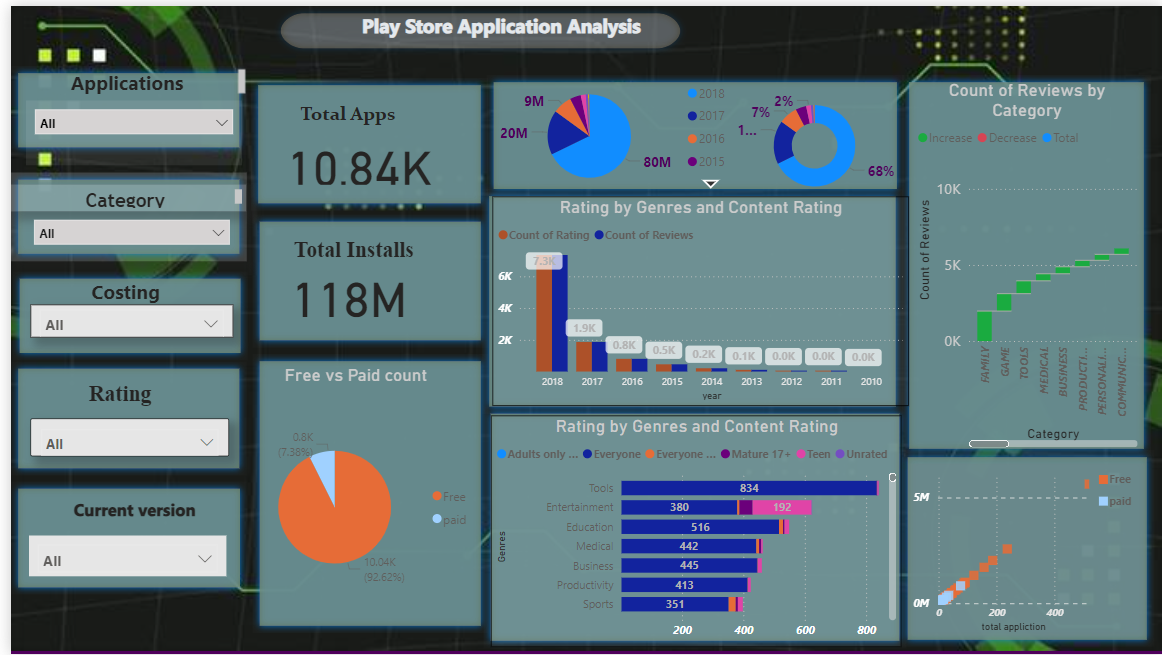

The page's visual inventory and layout, read from the dashboard file:
{"tool":"powerbi","page":{"name":"Page 1","canvas":[1280,720],"ordinal":0},"visuals":[{"type":"shape","box":[523.3,203.6,467.6,249.7],"z":0},{"type":"shape","box":[528,77.3,464,134.7],"z":1000},{"type":"shape","box":[988.3,492.8,281.7,218.9],"z":2000},{"type":"shape","box":[990,76.7,276.7,423.3],"z":3000},{"type":"shape","box":[0,185,261.7,98.3],"z":4000},{"type":"textbox","box":[0,198.1,261.4,30],"z":5000},{"type":"shape","box":[268.3,386.7,261.7,310],"z":6000},{"type":"shape","box":[266.7,80,263.3,147.2],"z":7000},{"type":"shape","box":[2.4,295.7,261.4,98.6],"z":8000},{"type":"shape","box":[0,66.7,261.7,98.3],"z":9000},{"type":"slicer","fields":{"Values":["google_cleaned (2).Category"]},"box":[1.7,218.3,263.3,96.1],"z":10000},{"type":"slicer","fields":{"Values":["google_cleaned (2).App"]},"box":[17.2,105.6,240,71.7],"z":11000},{"type":"textbox","box":[1.7,65.6,263.3,37.8],"z":12000},{"type":"shape","box":[525,445,470,268.3],"z":13000},{"type":"card","fields":{"Values":["google_cleaned (2).total appliction"]},"box":[300.6,143.9,173.3,60],"z":14000},{"type":"textbox","box":[276.7,101.1,225,47.2],"z":15000},{"type":"shape","box":[0,395,261.7,126.7],"z":16000},{"type":"slicer","fields":{"Values":["google_cleaned (2).Free_OR_Paid"]},"box":[21.7,331.1,225,36.7],"z":17000},{"type":"textbox","box":[0,296.1,255,46.7],"z":18000},{"type":"slicer","fields":{"Values":["google_cleaned (2).Rating"]},"box":[21.1,458.3,220.6,42.2],"z":19000},{"type":"textbox","box":[1.7,411.7,238.9,46.7],"z":20000},{"type":"shape","box":[268.3,232.2,261.7,147.8],"z":21000},{"type":"card","fields":{"Values":["Sum(google_cleaned (2).No_of_install)"]},"box":[288.9,282.2,173.3,75],"z":22000},{"type":"textbox","box":[253.3,252.2,255,49.4],"z":23000},{"type":"pieChart","title":"Free vs Paid count ","fields":{"Category":["google_cleaned (2).Free_OR_Paid"],"Y":["CountNonNull(google_cleaned (2).Category)"]},"box":[246.7,398.9,273.3,294.4],"z":24000},{"type":"barChart","title":" Rating by Genres and Content Rating","fields":{"Category":["google_cleaned (2).Genres"],"Series":["google_cleaned (2).Content Rating"],"Y":["CountNonNull(google_cleaned (2).Rating)"]},"box":[534.2,454.6,456.2,257.5],"z":25000},{"type":"lineClusteredColumnComboChart","title":" Rating by Genres and Content Rating","fields":{"Category":["google_cleaned (2).year"],"Y":["CountNonNull(google_cleaned (2).Rating)","CountNonNull(google_cleaned (2).Reviews)"]},"box":[535.4,211.2,462.5,232.5],"z":26000},{"type":"scatterChart","fields":{"Y":["Sum(google_cleaned (2).No_of_install)"],"Series":["google_cleaned (2).Free_OR_Paid"],"X":["google_cleaned (2).total appliction"],"Category":["google_cleaned (2).Reviews"]},"box":[996.7,508.9,263,192],"z":27000},{"type":"shape","box":[0,528.6,262.5,125.7],"z":28000},{"type":"slicer","fields":{"Values":["google_cleaned (2).Current Ver"]},"box":[20.7,588,219.5,45.1],"z":29000},{"type":"textbox","box":[14.3,542.4,245,50.9],"z":30000},{"type":"donutChart","fields":{"Category":["google_cleaned (2).year"],"Y":["Sum(google_cleaned (2).No_of_install)"]},"box":[527.8,78.3,278.9,131.7],"z":31000},{"type":"donutChart","fields":{"Category":["google_cleaned (2).year"],"Y":["Sum(google_cleaned (2).No_of_install)"]},"box":[798.3,88.3,188.3,133.3],"z":32000},{"type":"waterfallChart","fields":{"Category":["google_cleaned (2).Category"],"Y":["CountNonNull(google_cleaned (2).Reviews)"]},"box":[1001.7,81.7,255,413.3],"z":33000}]}

Visuals, with their boxes in screenshot pixels (x1, y1, x2, y2), scaled from the page's 1280x720 canvas onto the 1162x655 screenshot:
shape: (left=475, top=185, right=900, bottom=412)
shape: (left=479, top=70, right=901, bottom=193)
shape: (left=897, top=448, right=1153, bottom=647)
shape: (left=899, top=70, right=1150, bottom=455)
shape: (left=0, top=168, right=238, bottom=258)
textbox: (left=0, top=180, right=237, bottom=208)
shape: (left=244, top=352, right=481, bottom=634)
shape: (left=242, top=73, right=481, bottom=207)
shape: (left=2, top=269, right=239, bottom=359)
shape: (left=0, top=61, right=238, bottom=150)
slicer - google_cleaned (2).Category: (left=2, top=199, right=241, bottom=286)
slicer - google_cleaned (2).App: (left=16, top=96, right=233, bottom=161)
textbox: (left=2, top=60, right=241, bottom=94)
shape: (left=477, top=405, right=903, bottom=649)
card - google_cleaned (2).total appliction: (left=273, top=131, right=430, bottom=185)
textbox: (left=251, top=92, right=455, bottom=135)
shape: (left=0, top=359, right=238, bottom=475)
slicer - google_cleaned (2).Free_OR_Paid: (left=20, top=301, right=224, bottom=335)
textbox: (left=0, top=269, right=231, bottom=312)
slicer - google_cleaned (2).Rating: (left=19, top=417, right=219, bottom=455)
textbox: (left=2, top=375, right=218, bottom=417)
shape: (left=244, top=211, right=481, bottom=346)
card - Sum(google_cleaned (2).No_of_install): (left=262, top=257, right=420, bottom=325)
textbox: (left=230, top=229, right=461, bottom=274)
"Free vs Paid count " pieChart: (left=224, top=363, right=472, bottom=631)
" Rating by Genres and Content Rating" barChart: (left=485, top=414, right=899, bottom=648)
" Rating by Genres and Content Rating" lineClusteredColumnComboChart: (left=486, top=192, right=906, bottom=404)
scatterChart - Sum(google_cleaned (2).No_of_install) x google_cleaned (2).Free_OR_Paid: (left=905, top=463, right=1144, bottom=638)
shape: (left=0, top=481, right=238, bottom=595)
slicer - google_cleaned (2).Current Ver: (left=19, top=535, right=218, bottom=576)
textbox: (left=13, top=493, right=235, bottom=540)
donutChart - google_cleaned (2).year x Sum(google_cleaned (2).No_of_install): (left=479, top=71, right=732, bottom=191)
donutChart - google_cleaned (2).year x Sum(google_cleaned (2).No_of_install): (left=725, top=80, right=896, bottom=202)
waterfallChart - google_cleaned (2).Category x CountNonNull(google_cleaned (2).Reviews): (left=909, top=74, right=1141, bottom=450)
